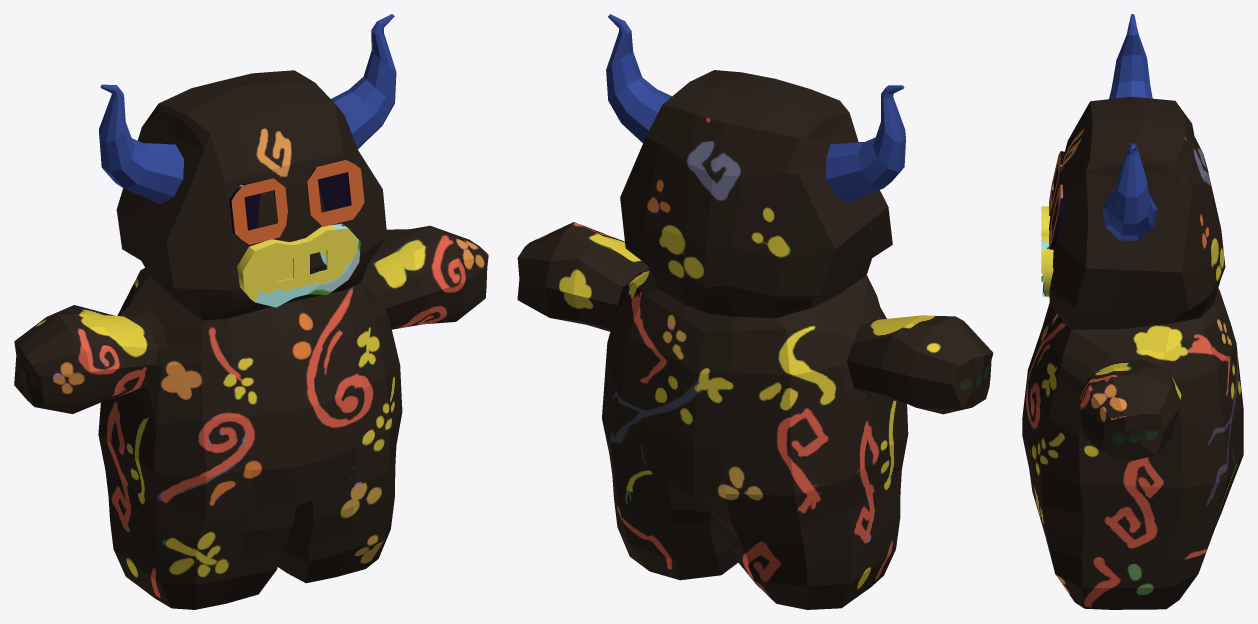
File: TORITO_1.fbx
The picture shows the model from 3 angles, left to right: view 1: azimuth 30°, elevation 25°; view 2: azimuth 150°, elevation 25°; view 3: azimuth 270°, elevation 25°; orthographic projection. The views are drawn at different scales.
Parts seen in each view (by area): view 1: cuerpo, cuernos, nariz, ojos; view 2: cuerpo, cuernos; view 3: cuerpo, cuernos, ojos, nariz.
Boxes of the visible parts, x1,y1,x2,y2 form: cuerpo: (14,70,488,609); cuernos: (99,14,396,204); nariz: (237,223,360,307); ojos: (229,159,364,244); cuerpo: (517,70,993,609); cuernos: (606,14,905,203); cuerpo: (1022,96,1243,609); cuernos: (1102,14,1157,240); ojos: (1049,151,1064,249); nariz: (1041,206,1053,296).
Size of the model in its own units: 785 by 856 by 355.
